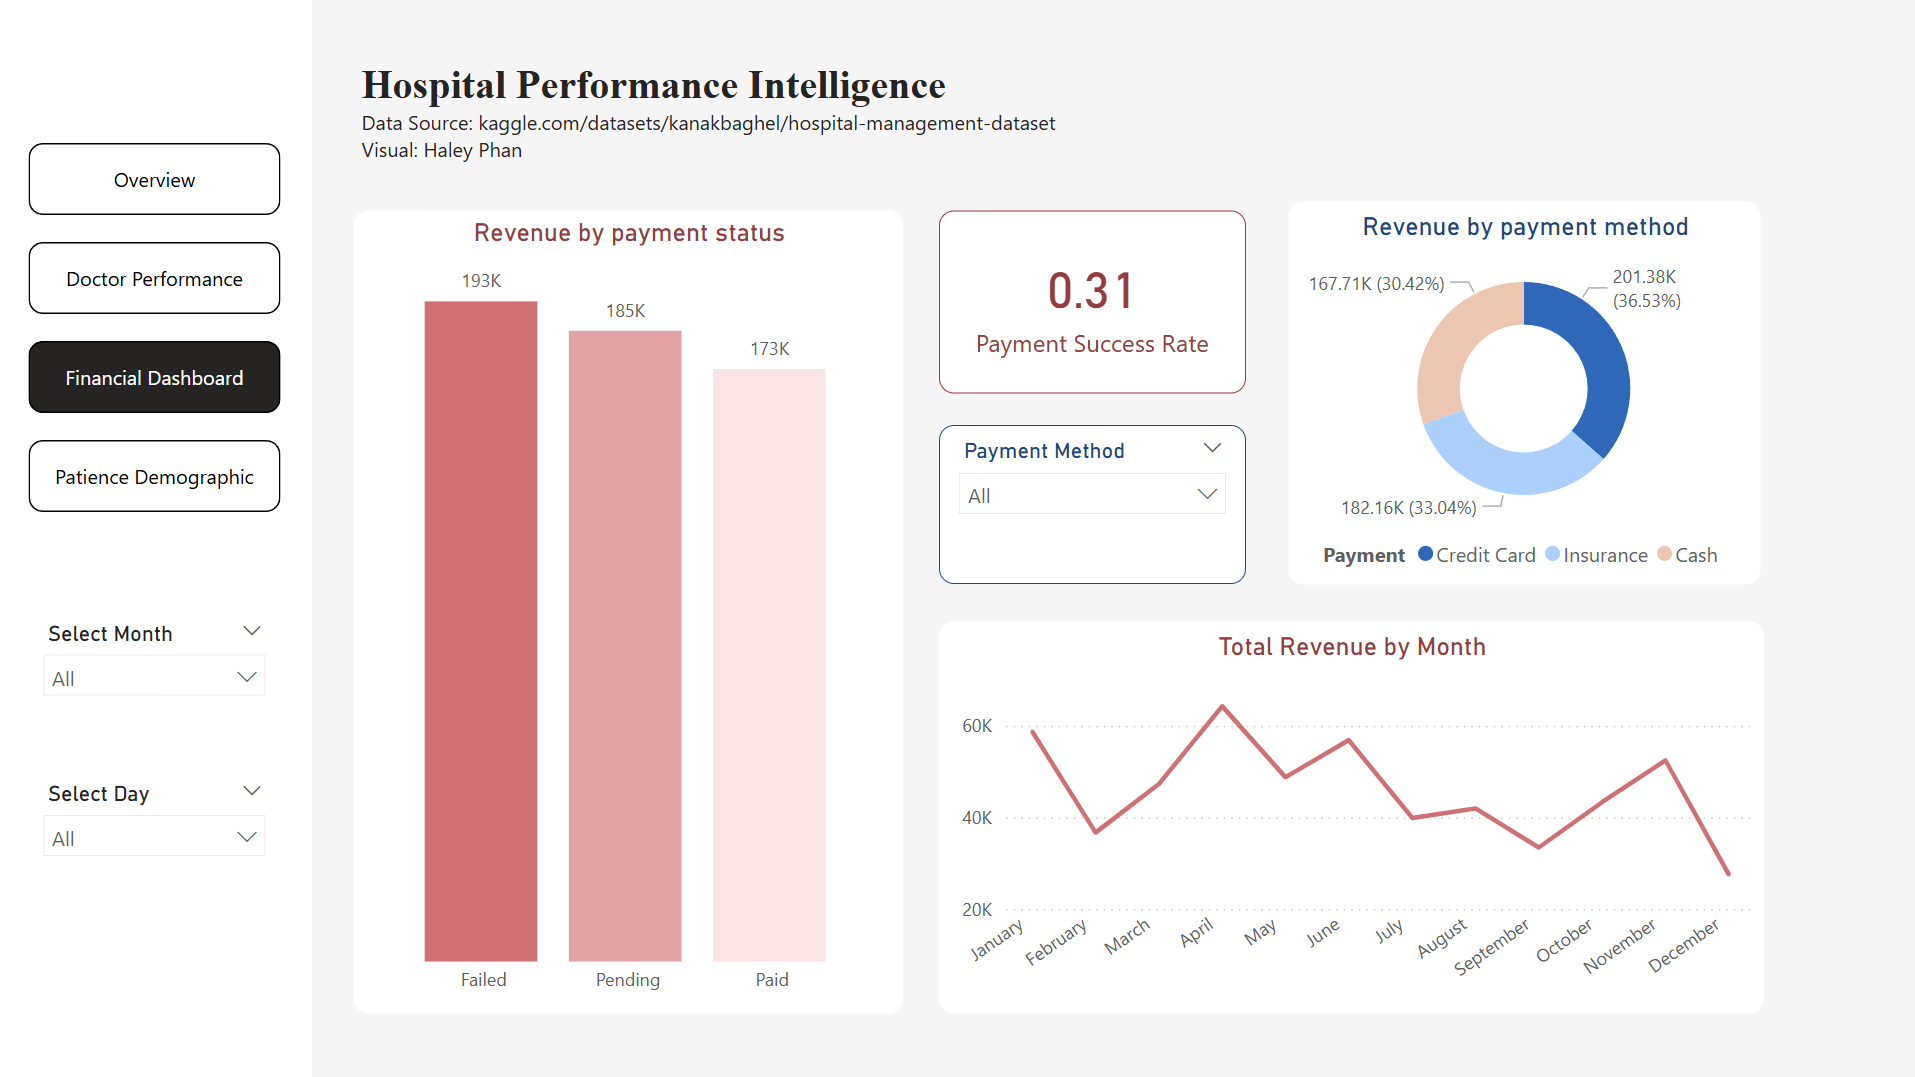

Layout of this report page (visuals, bound fields, positions):
{"tool":"powerbi","page":{"name":"Financial Dashboard","canvas":[1280,720],"ordinal":2},"visuals":[{"type":"lineChart","fields":{"Y":["billing.Total Revenue"],"Category":["billing.bill_date.Variation.Date Hierarchy.Quarter","billing.bill_date.Variation.Date Hierarchy.Month","billing.bill_date.Variation.Date Hierarchy.Day"]},"box":[627.5,415,550,261.2],"z":0},{"type":"donutChart","title":"Revenue by payment method","fields":{"Category":["billing.payment_method"],"Y":["billing.Total Revenue"]},"box":[861.2,135,315,255],"z":1000},{"type":"columnChart","title":"Revenue by payment status","fields":{"Category":["billing.payment_status"],"Y":["billing.Total Revenue"]},"box":[237.5,141.2,366.2,535],"z":2000},{"type":"slicer","fields":{"Values":["billing.payment_method"]},"box":[627.5,283.8,205,106.2],"z":3000},{"type":"shape","box":[0,0,210,720],"z":4000},{"type":"pageNavigator","box":[21.2,96.2,167.5,248.8],"z":5000},{"type":"slicer","fields":{"Values":["appointments.appointment_date.Variation.Date Hierarchy.Month"]},"box":[21.2,408.8,167.5,73.8],"z":5001},{"type":"slicer","fields":{"Values":["appointments.appointment_date.Variation.Date Hierarchy.Day"]},"box":[21.2,516.2,167.5,73.8],"z":5002},{"type":"textbox","box":[237.5,36.2,480,85],"z":5003},{"type":"card","fields":{"Values":["billing.Payment Success Rate"]},"box":[627.5,141.2,205,121.2],"z":5004}]}

Visuals, with their boxes in screenshot pixels (x1, y1, x2, y2), scaled from the page's 1280x720 canvas onto the 1915x1077 screenshot:
lineChart - billing.Total Revenue x billing.bill_date.Variation.Date Hierarchy.Quarter: 939/621/1762/1011
"Revenue by payment method" donutChart: 1288/202/1760/583
"Revenue by payment status" columnChart: 355/211/903/1011
slicer - billing.payment_method: 939/425/1245/583
shape: 0/0/314/1076
pageNavigator: 32/144/282/516
slicer - appointments.appointment_date.Variation.Date Hierarchy.Month: 32/611/282/722
slicer - appointments.appointment_date.Variation.Date Hierarchy.Day: 32/772/282/883
textbox: 355/54/1073/181
card - billing.Payment Success Rate: 939/211/1245/393
